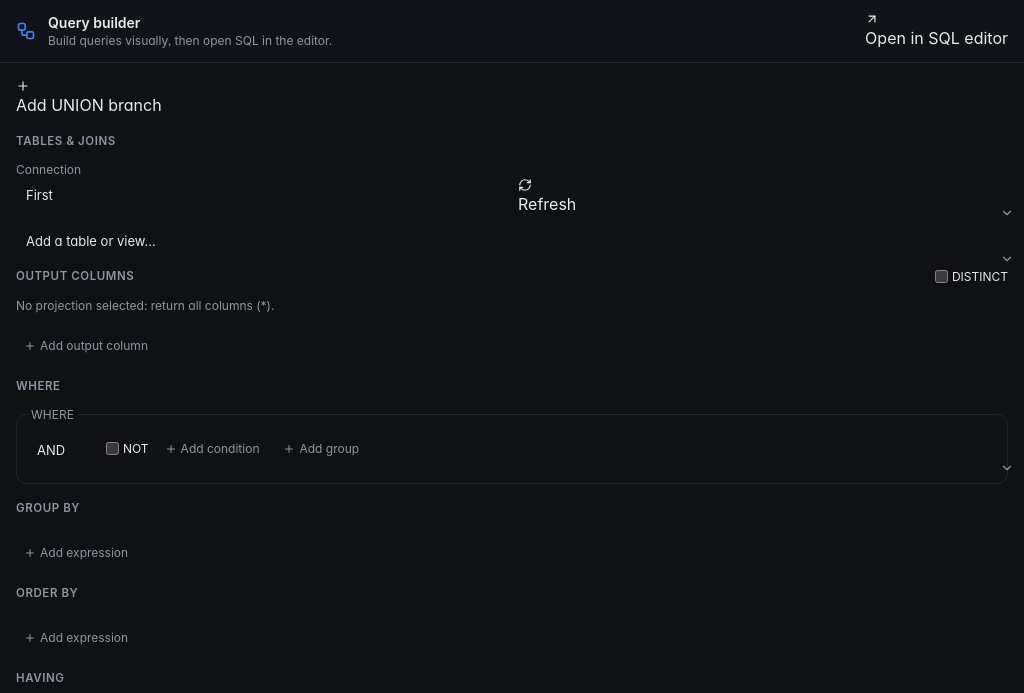
Test case: QueryBuilderView › reuses column metadata across self joins and blocks incomplete joins
Select "users" in the dropdown named "Add a table or view…" at (102,242), box [16,232,188,252]
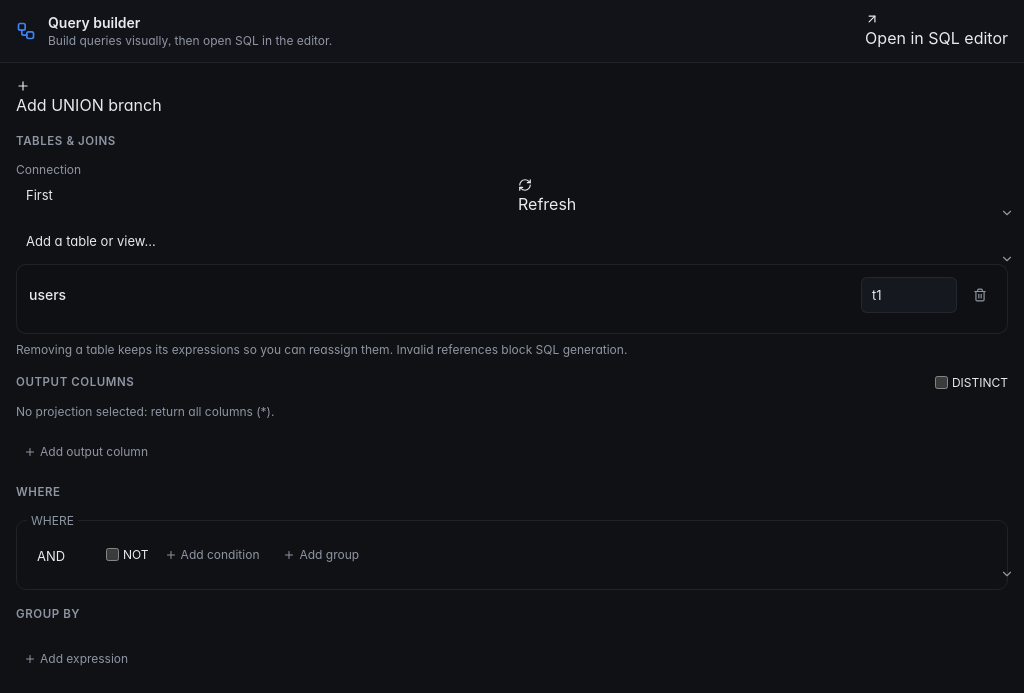
Select "users" in the dropdown named "Add a table or view…" at (102,242), box [16,232,188,252]
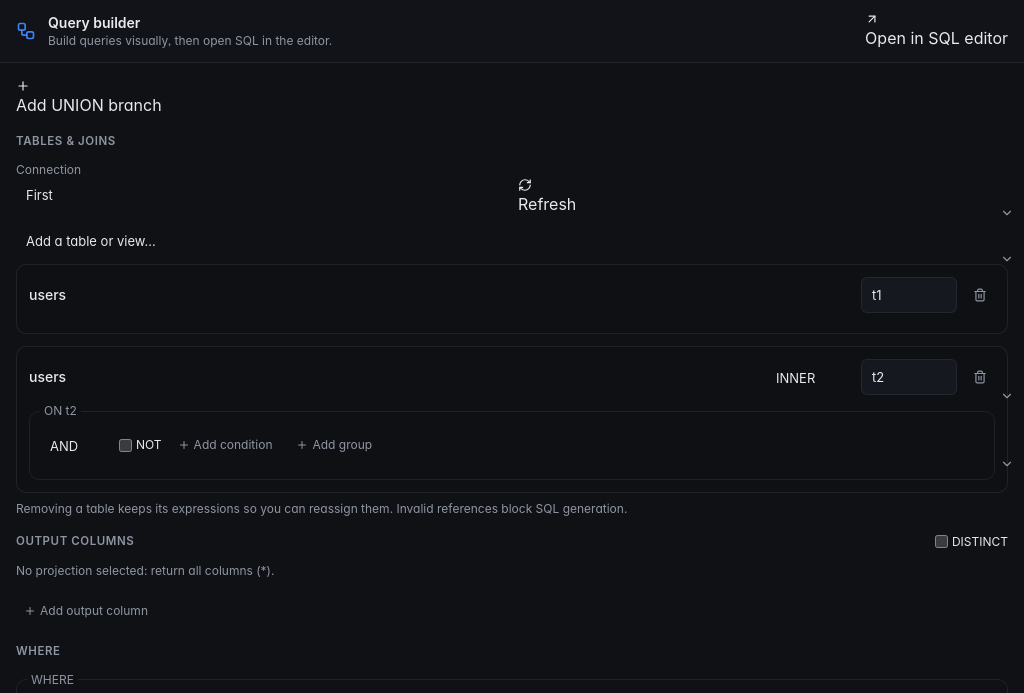
Expected: the button "Open in SQL editor" is disabled, [865,12,1008,50]
Select "CROSS" in the dropdown named "Join type 1" at (810,379), box [766,369,853,389]
(page scrolled)
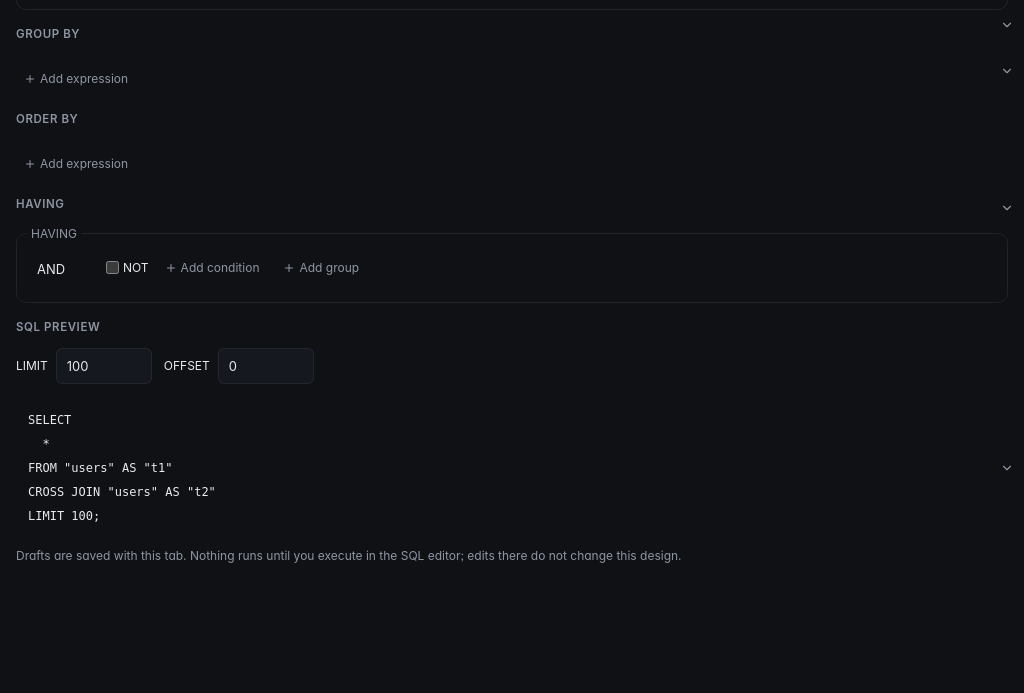
Expected: the text named "SQL preview" shows "CROSS JOIN \"users\" AS \"t2\"", [28,413,216,523]
